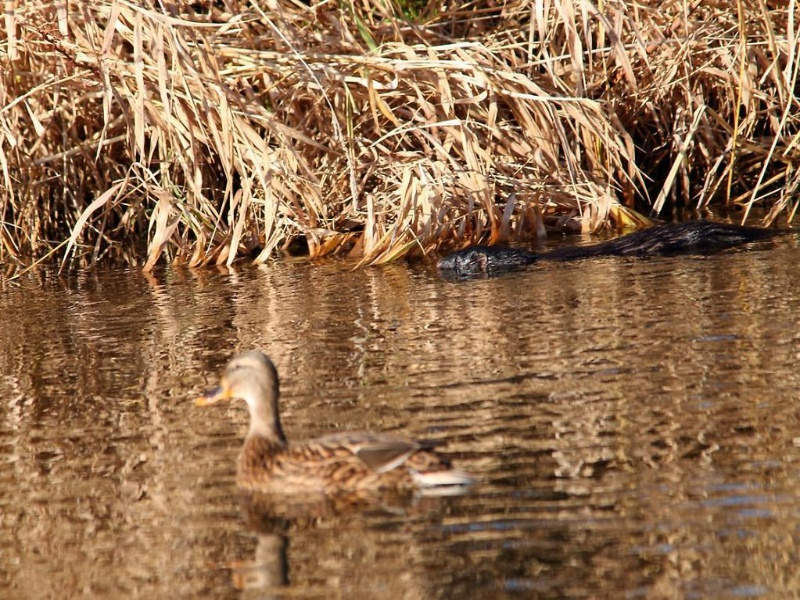minkish: (434, 222, 794, 275)
